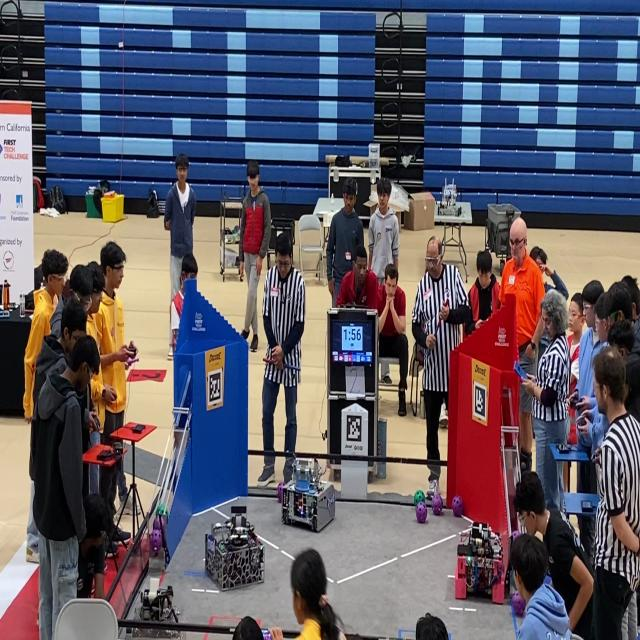artifact_green: (414, 490, 426, 506), (156, 504, 168, 516)
artifact_purple: (511, 593, 526, 616), (150, 530, 162, 554), (415, 502, 428, 524), (452, 496, 463, 517), (432, 494, 443, 515), (277, 482, 285, 503), (160, 515, 167, 532), (153, 517, 160, 530), (512, 530, 520, 540)
